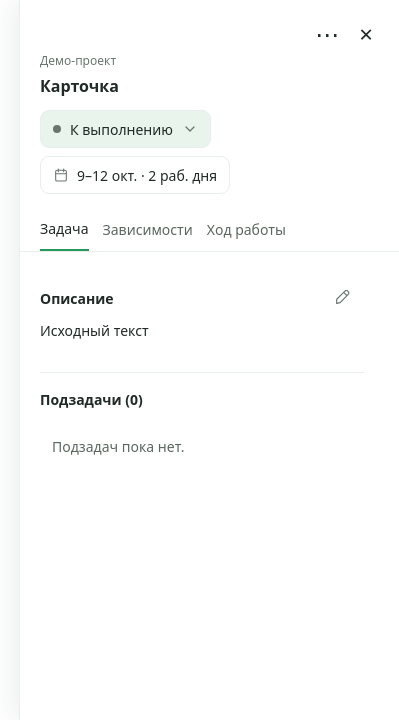
failed description save retains input and offers local retry
This screenshot has width=399, height=720.
Click the button named "Изменить описание" at (342, 298), box top-left (320, 276), bottom-right (364, 320)
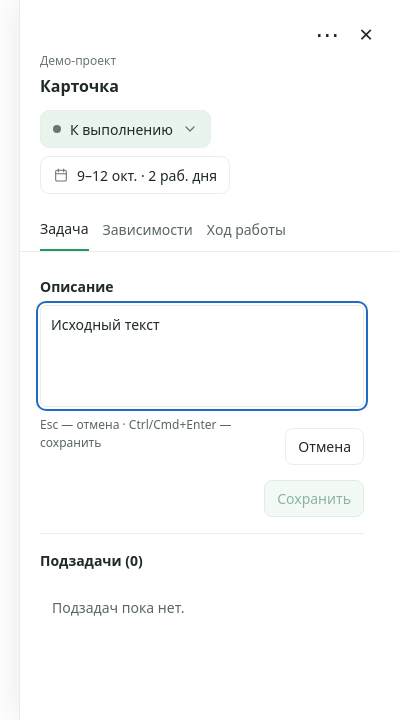
Type " черновик" into the text box named "Описание" at (202, 356), box top-left (40, 305), bottom-right (364, 407)
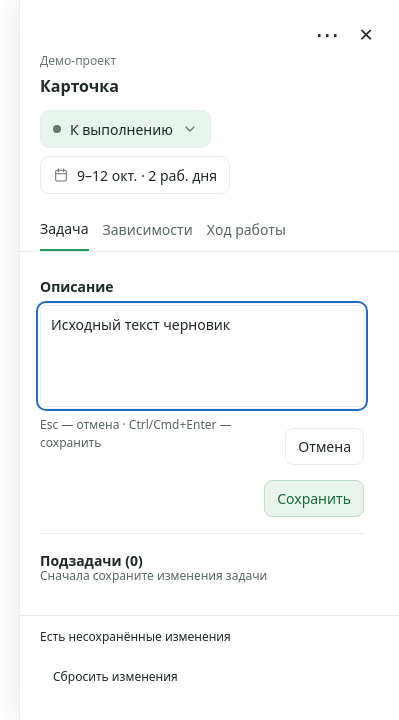
Click the button "Сохранить" at (314, 498), box top-left (264, 480), bottom-right (364, 517)
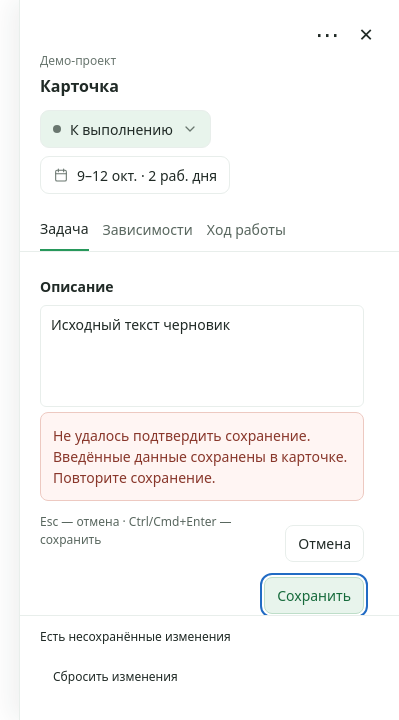
Now the text box named "Описание" holds "Исходный текст черновик", box top-left (40, 305), bottom-right (364, 407)
Now the 1st message is shown, box top-left (40, 412), bottom-right (364, 501)
